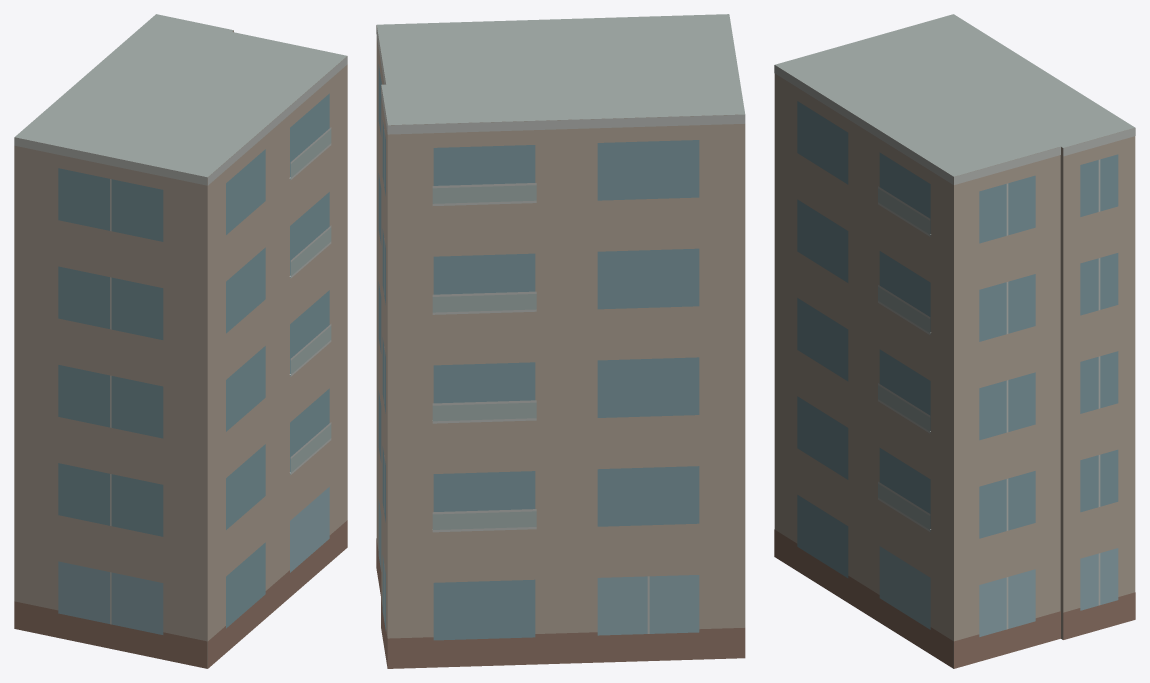
File: survey-upis-32721029.glb
The picture shows the model from 3 angles, left to right: view 1: azimuth 30°, elevation 25°; view 2: azimuth 150°, elevation 25°; view 3: azimuth 270°, elevation 25°; orthographic projection. The views are drawn at different scales.
Visible parts, largest first — view 1: survey-upis-32721029.tmp; view 2: survey-upis-32721029.tmp; view 3: survey-upis-32721029.tmp.
Boxes of the visible parts, x1,y1,x2,y2 form: survey-upis-32721029.tmp: (14, 14, 347, 668); survey-upis-32721029.tmp: (376, 14, 745, 668); survey-upis-32721029.tmp: (774, 14, 1135, 668).
Size of the model in its own units: 10.08 by 14.2 by 9.45.
